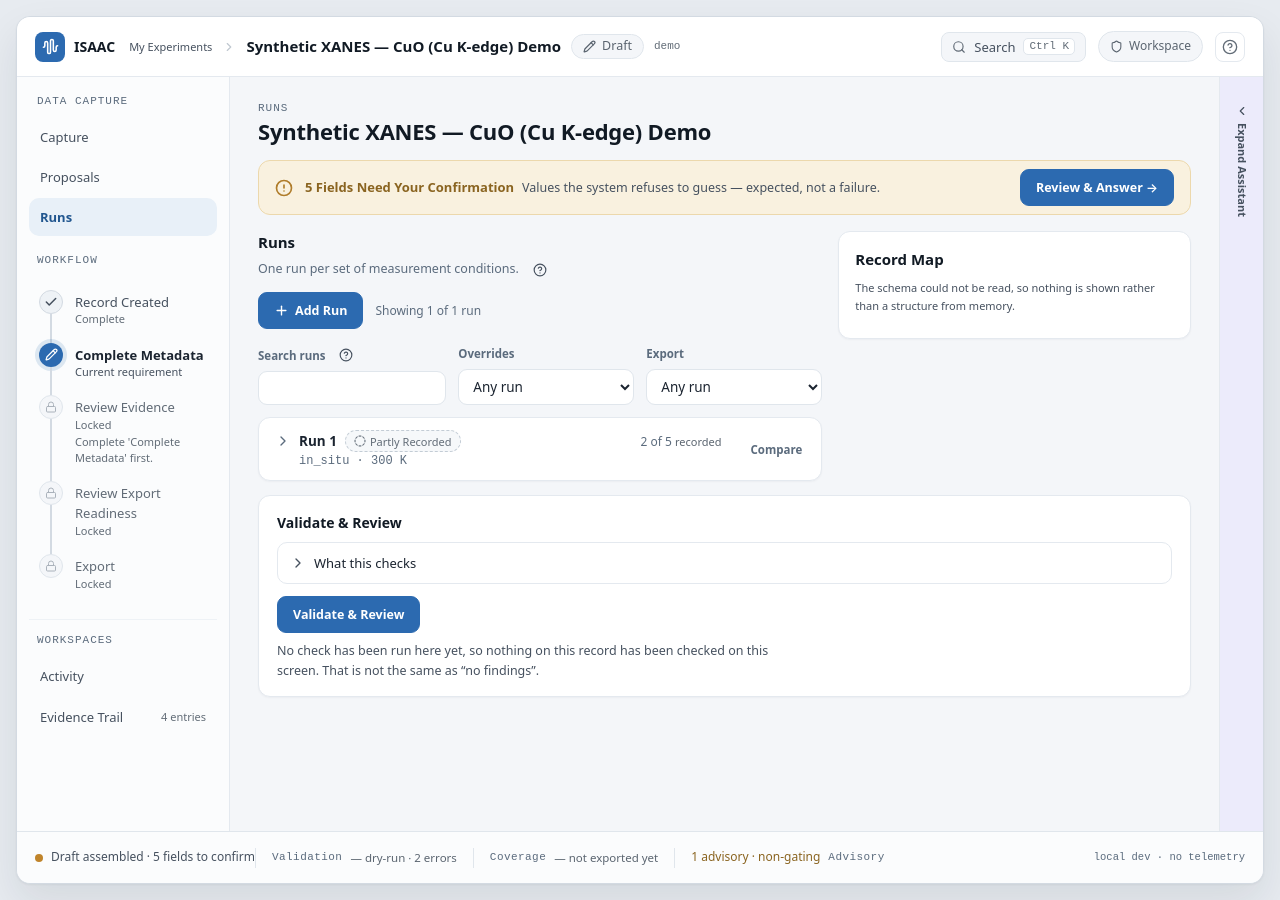
Test: every run-level writable field is offered › renders a labelled control for each of the five, including the two added later
The image size is (1280, 900).
Expected: the button "Add Run" is shown, x1=258 y1=292 x2=363 y2=330
Step 1. Click the button "Run 1 Partly Recorded 2 of 5 recorded in_situ · 300 K" → coordinates (291, 458), box x1=259 y1=418 x2=738 y2=480
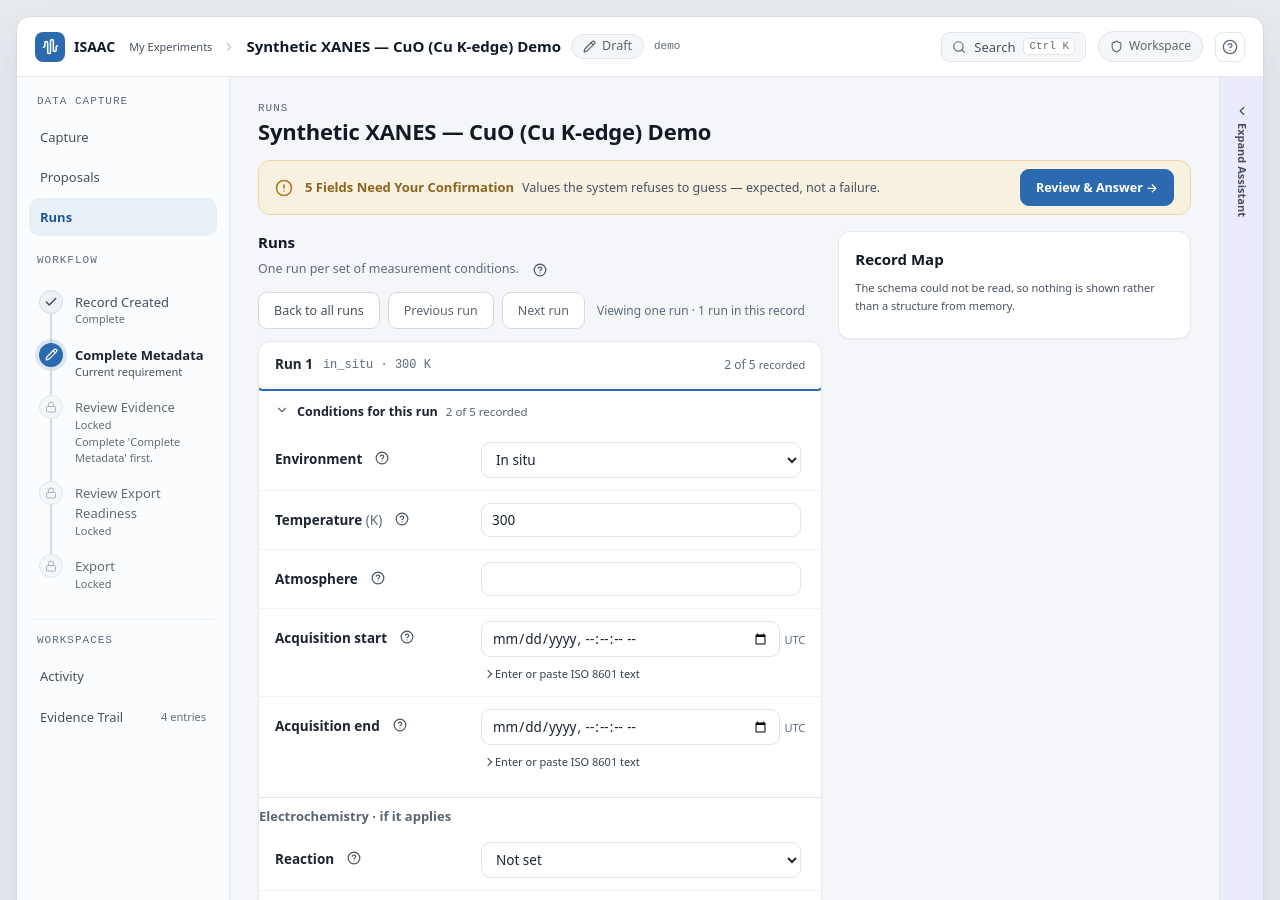
Now the dropdown labelled "Environment" is shown, box x1=481 y1=442 x2=801 y2=478
Now the field labelled "Temperature (K)" is shown, box x1=481 y1=503 x2=801 y2=537
Now the field labelled "Acquisition start" is shown, box x1=481 y1=621 x2=780 y2=657
